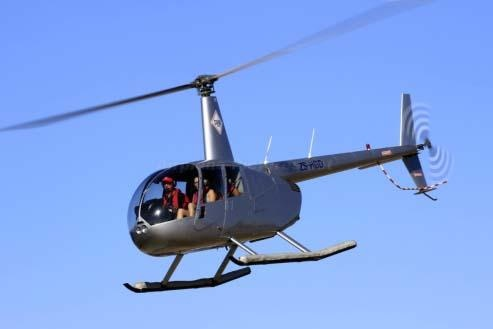airplane: (104, 45, 449, 297)
